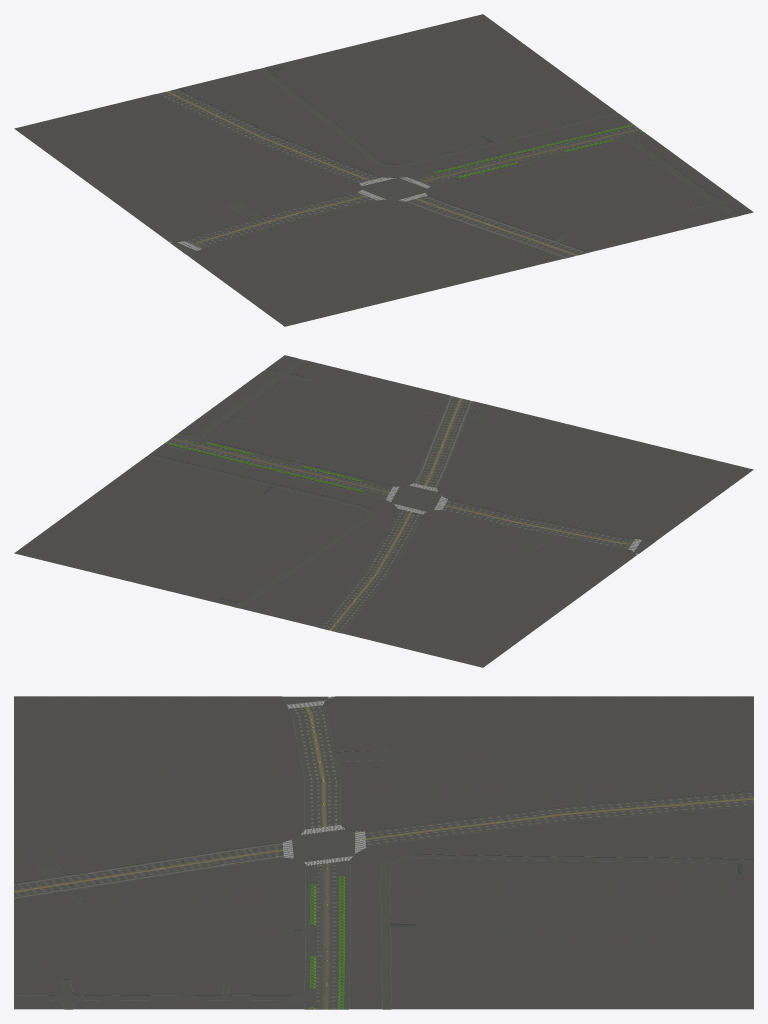
3 renders of one model, top to bottom at view 1: azimuth 30°, elevation 25°; view 2: azimuth 150°, elevation 25°; view 3: azimuth 270°, elevation 25°, orthographic. The views are drawn at different scales.
Parts seen in each view (by area): view 1: 0459_11_13; view 2: 0459_11_13; view 3: 0459_11_13.
Part boxes in pixels (x1,y1,x2,y2): 0459_11_13: [14, 14, 753, 326]; 0459_11_13: [14, 355, 753, 667]; 0459_11_13: [14, 696, 753, 1009].
Size of the model in its own units: 500 by 500 by 0.2154.
11 materials, 11 textured.
